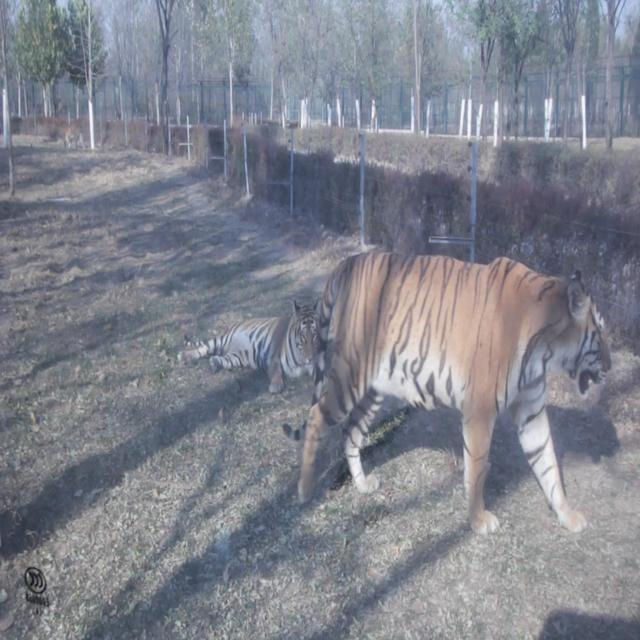tiger: (285, 247, 612, 536), (175, 297, 322, 394), (60, 124, 85, 150)
